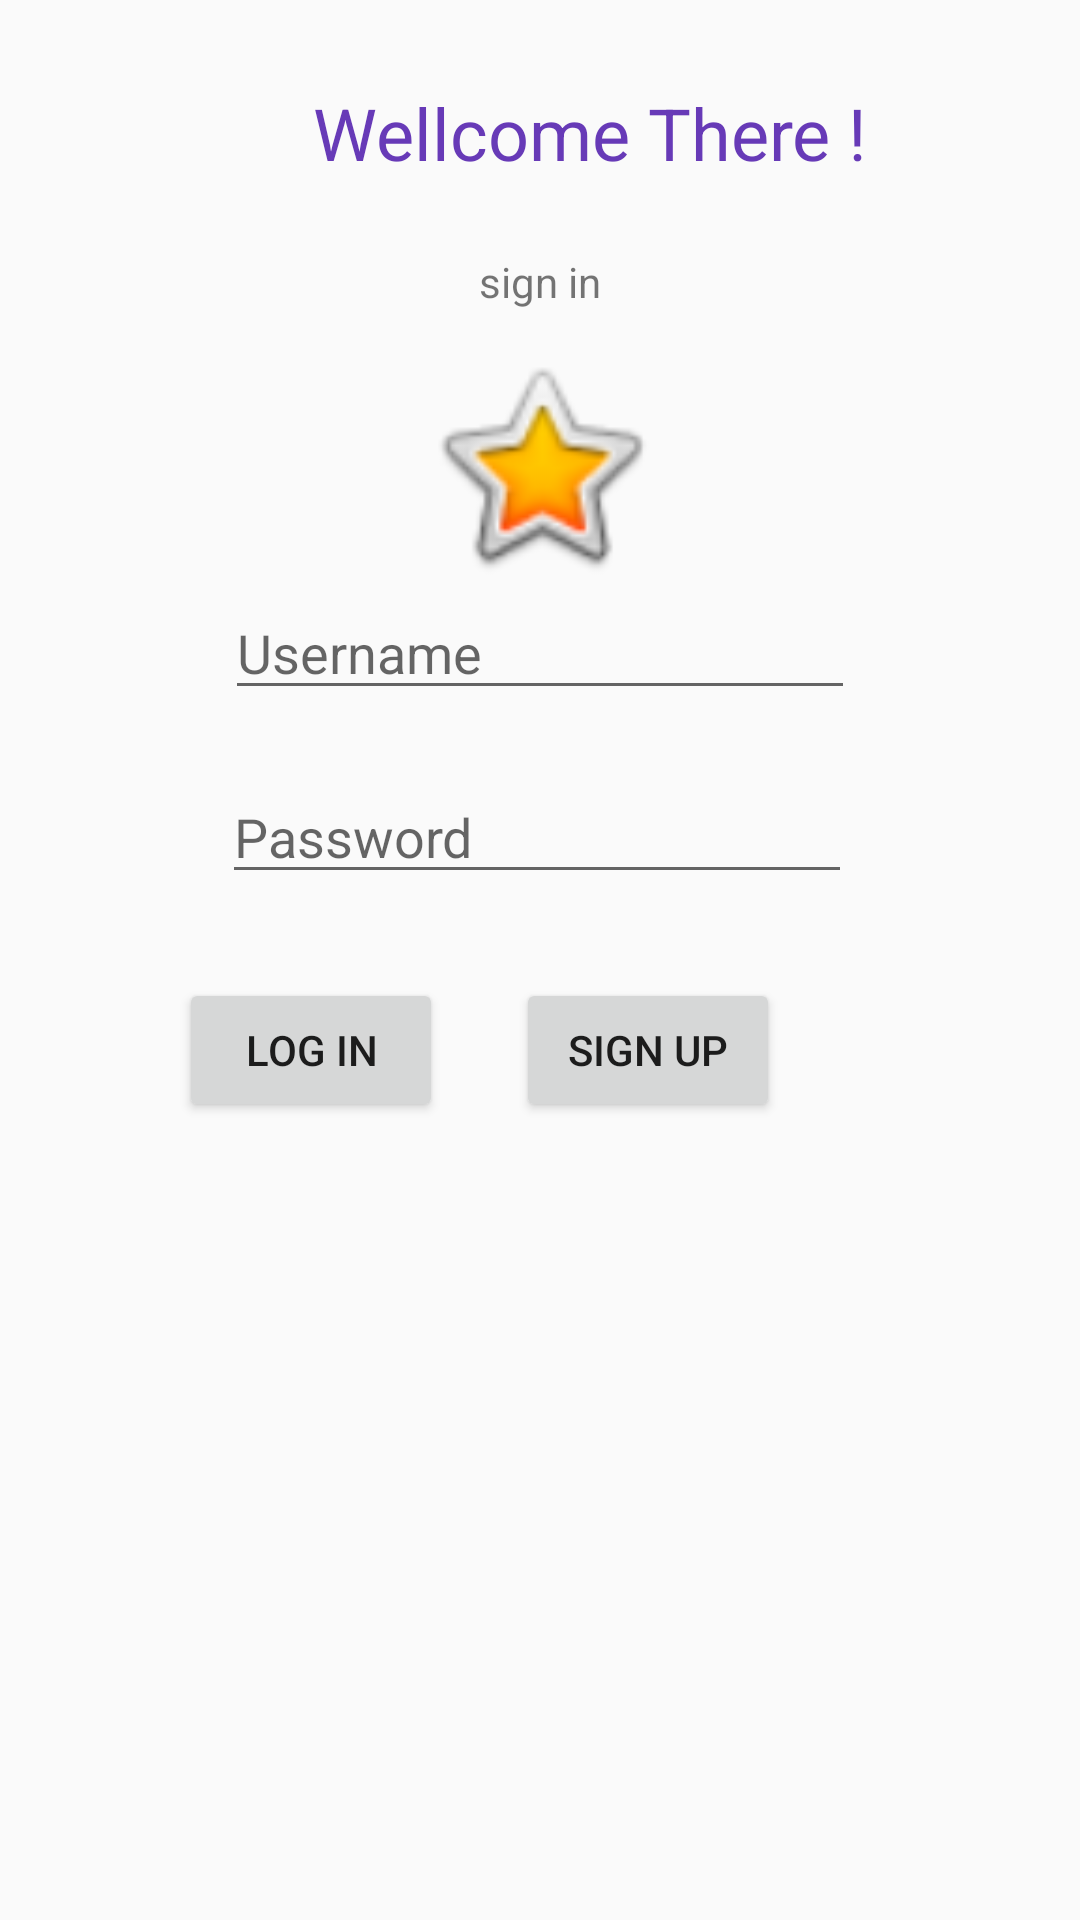

Named icons in this screenshot (1080px×1920px) and their bounding boxes, (x1, y1, x2, y2):
star on: (442, 370, 643, 566)
